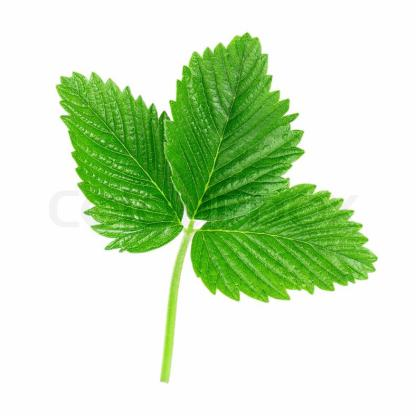strawberry leaf: (160, 23, 307, 226), (56, 66, 198, 252), (193, 185, 382, 306)
